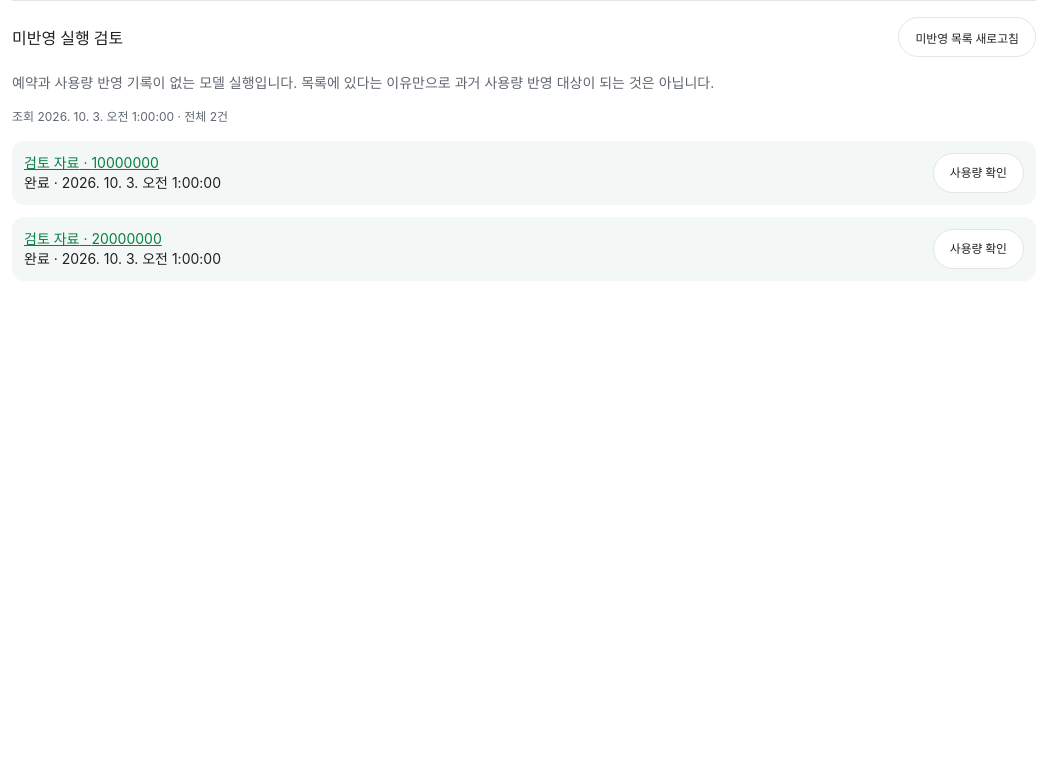
미반영 실행 사용량 확인 › 사용량·출처를 확인하고 사유를 작성한 뒤에만 검토한 증거를 반영한다
Step 1. Click the button "사용량 확인" in the row of "10000000" → (978, 173), box [933,153,1024,193]
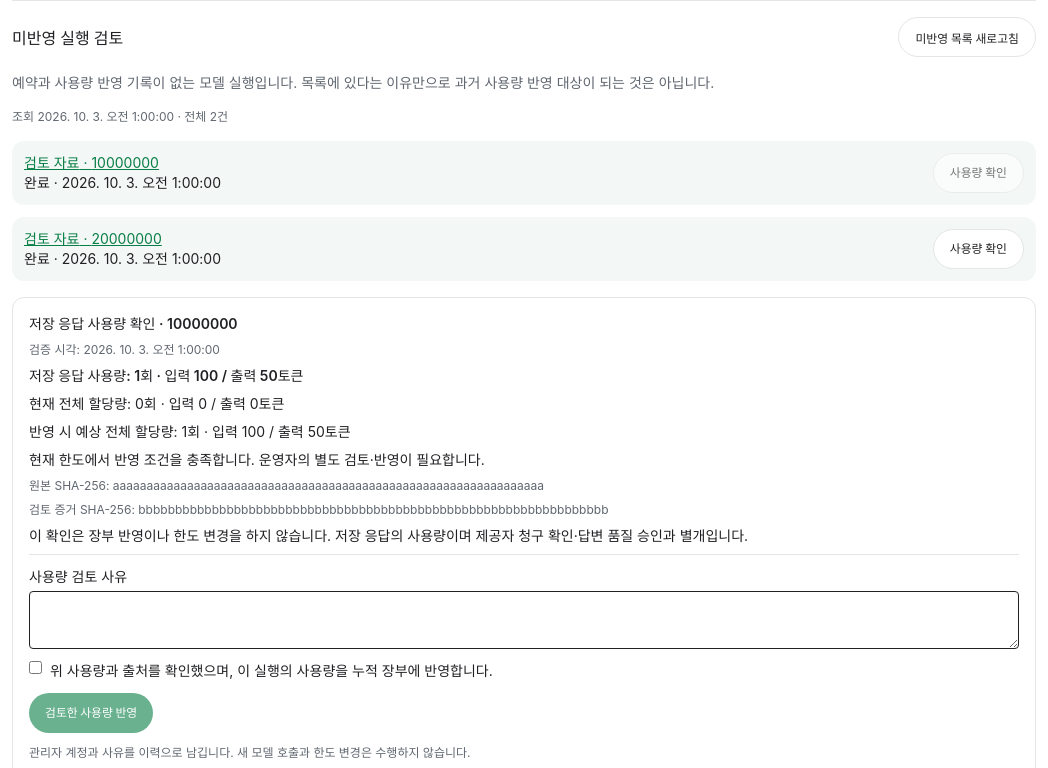
Expected: the button "검토한 사용량 반영" is disabled, [29,693,153,733]
Step 2. Type " 전체 저장 응답 검토 " into the text box labelled "사용량 검토 사유" → (524, 620), box [29,591,1019,649]
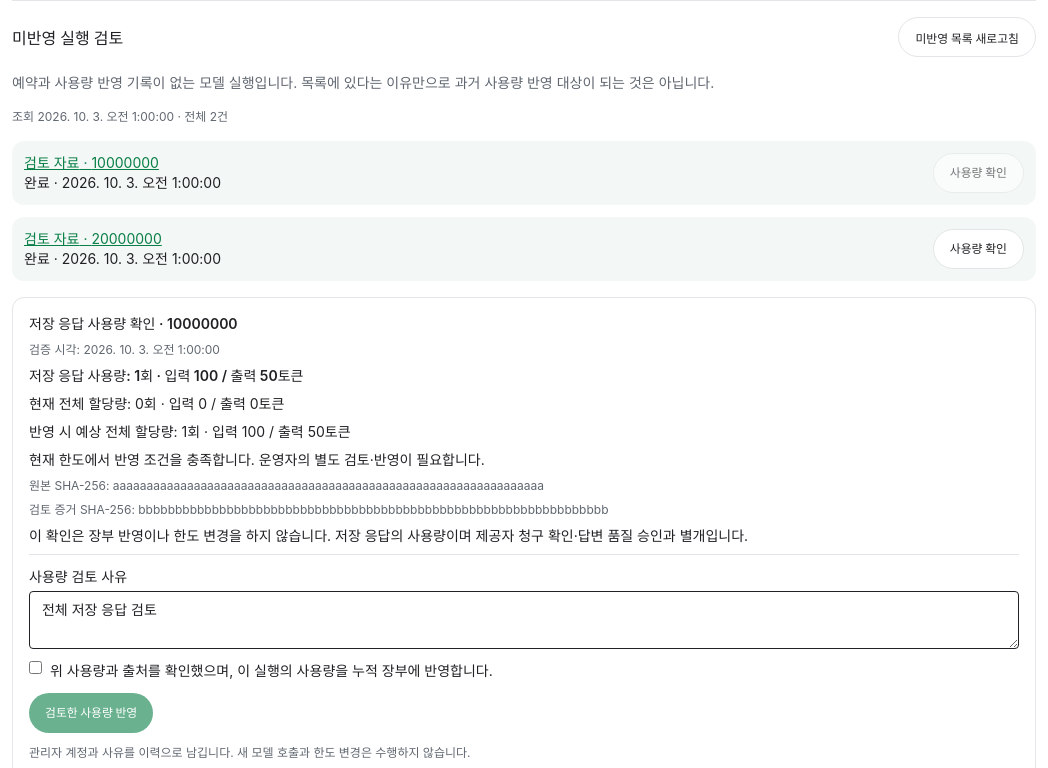
Expected: the button "검토한 사용량 반영" is disabled, [29,693,153,733]
Step 3. Click the checkbox → (36, 668), box [29,661,42,674]
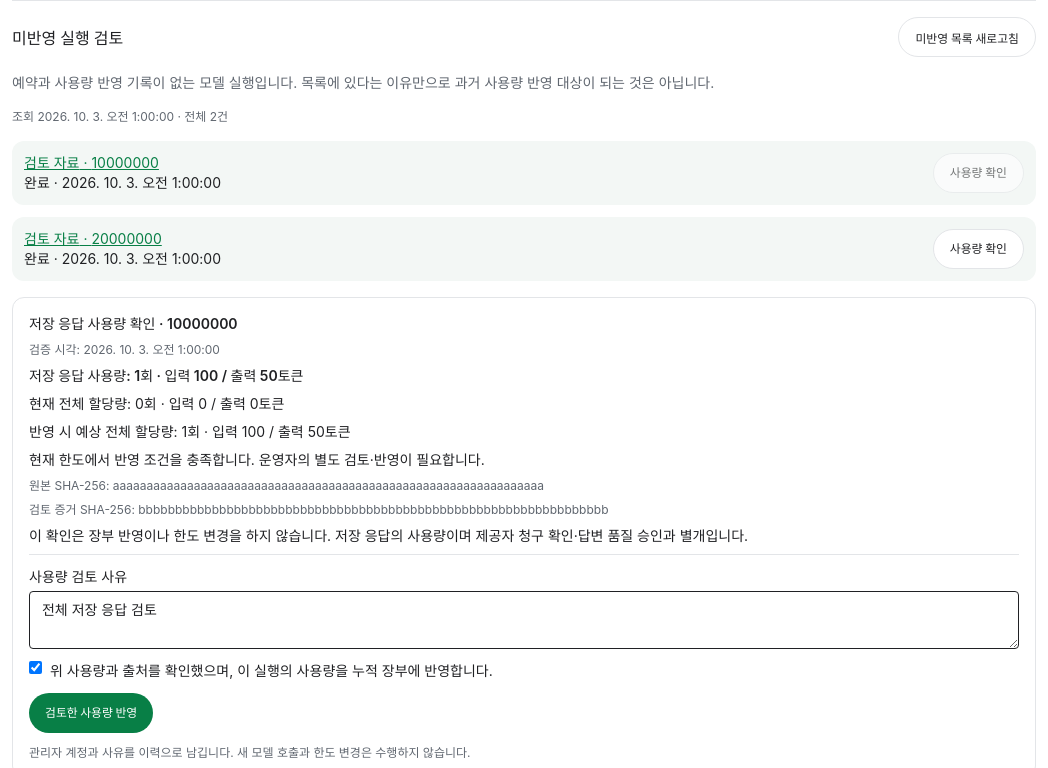
Step 4. Click the button "검토한 사용량 반영" → (91, 713), box [29,693,153,733]
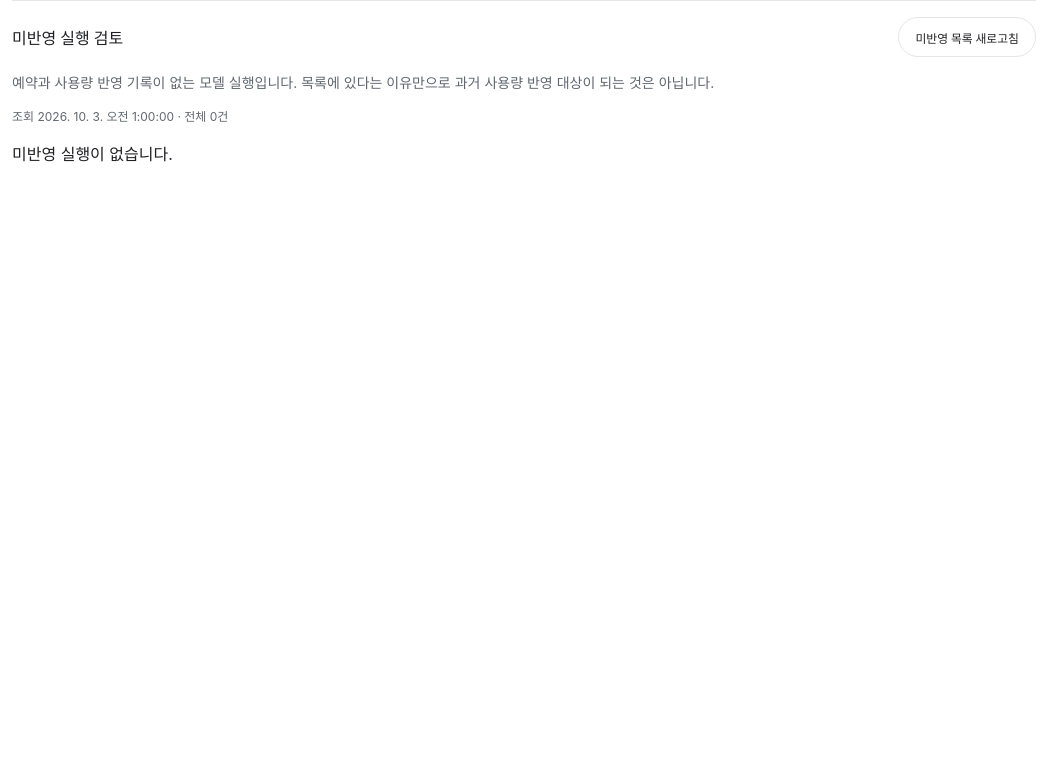
Expected: the text "미반영 실행이 없습니다." is shown, [12,144,173,164]
